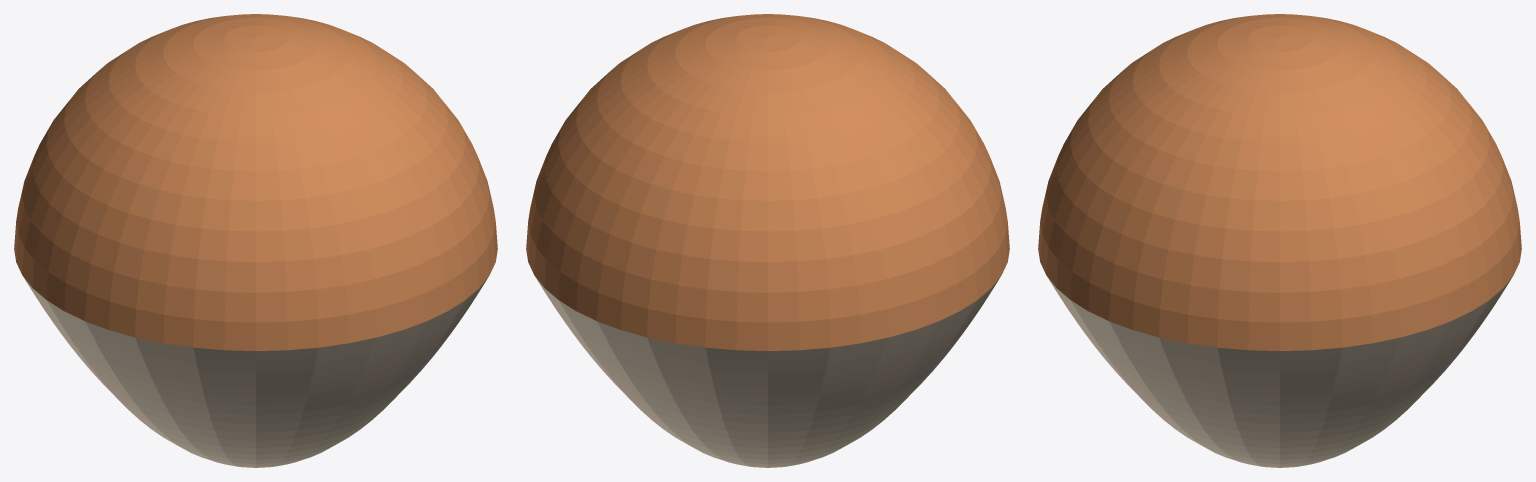
3 renders of one model, left to right at view 1: azimuth 30°, elevation 25°; view 2: azimuth 150°, elevation 25°; view 3: azimuth 270°, elevation 25°, orthographic.
Parts seen in each view (by area): view 1: Mesh_Mesh_head_geo.001_lambert2SG.001; view 2: Mesh_Mesh_head_geo.001_lambert2SG.001; view 3: Mesh_Mesh_head_geo.001_lambert2SG.001.
Boxes of the visible parts, box(x1,y1,x2,y2) form: Mesh_Mesh_head_geo.001_lambert2SG.001: box(14, 14, 497, 467); Mesh_Mesh_head_geo.001_lambert2SG.001: box(526, 14, 1009, 467); Mesh_Mesh_head_geo.001_lambert2SG.001: box(1038, 14, 1521, 467).
Size of the model in its own units: 200 by 191 by 200.
